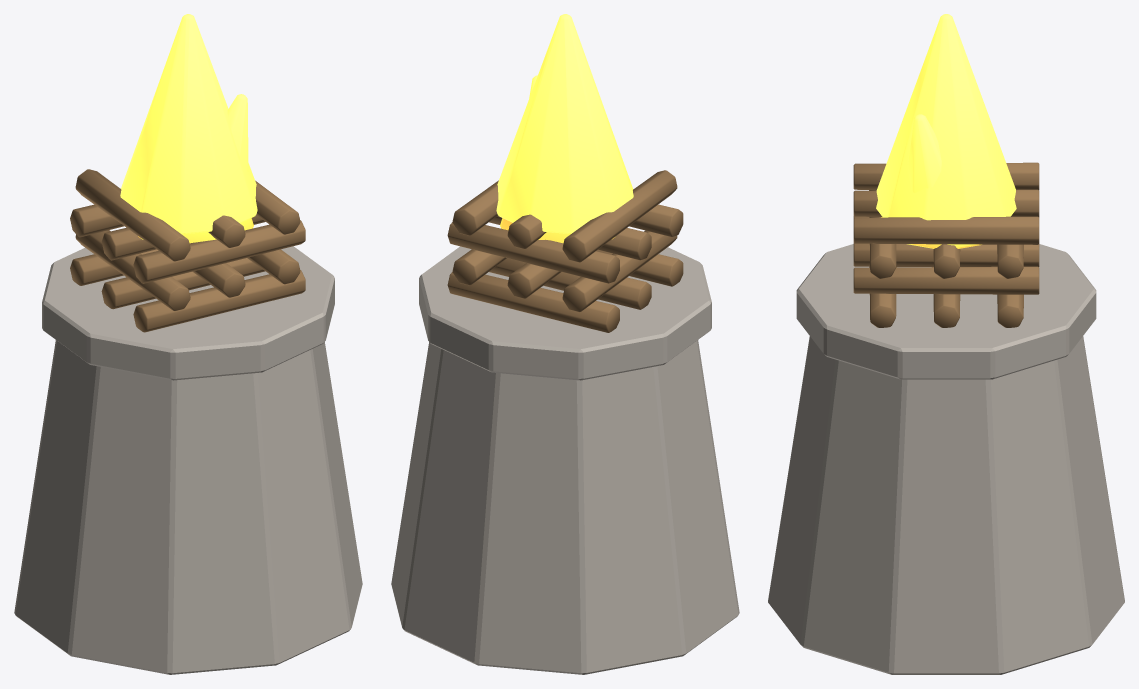
File: Signal_Fire_Beacon.glb
3 views of the same model, side by side, from view 1: azimuth 30°, elevation 25°; view 2: azimuth 150°, elevation 25°; view 3: azimuth 270°, elevation 25° (orthographic).
Parts seen in each view (by area): view 1: WatchBase, StoneCoping, BlazingFlame, PyreLog_2_-0.22, PyreLog_0_-0.22, PyreLog_3_-0.22, PyreLog_1_-0.22, PyreLog_0_0.00, PyreLog_3_0.22, PyreLog_2_0.00, PyreLog_0_0.22, PyreLog_2_0.22 (+4 smaller); view 2: WatchBase, StoneCoping, BlazingFlame, PyreLog_2_0.22, PyreLog_0_0.22, PyreLog_3_-0.22, PyreLog_1_-0.22, PyreLog_0_0.00, PyreLog_3_0.22, PyreLog_2_0.00, PyreLog_0_-0.22, PyreLog_1_0.22 (+3 smaller); view 3: WatchBase, StoneCoping, BlazingFlame, PyreLog_3_0.22, PyreLog_1_0.22, PyreLog_1_0.00, SideFlameA, PyreLog_3_-0.22, PyreLog_3_0.00, PyreLog_2_-0.22, PyreLog_0_-0.22, PyreLog_2_0.22 (+3 smaller).
Boxes of the visible parts, x1,y1,x2,y2 form: WatchBase: [14, 340, 362, 674]; StoneCoping: [42, 246, 334, 380]; BlazingFlame: [120, 14, 257, 234]; PyreLog_2_-0.22: [133, 220, 305, 283]; PyreLog_0_-0.22: [133, 270, 305, 332]; PyreLog_3_-0.22: [75, 169, 190, 261]; PyreLog_1_-0.22: [75, 230, 190, 310]; PyreLog_0_0.00: [101, 258, 264, 309]; PyreLog_3_0.22: [255, 180, 300, 234]; PyreLog_2_0.00: [101, 215, 265, 260]; PyreLog_0_0.22: [70, 249, 158, 285]; PyreLog_2_0.22: [70, 204, 124, 237]; WatchBase: [391, 340, 739, 674]; StoneCoping: [419, 246, 711, 380]; BlazingFlame: [496, 14, 633, 234]; PyreLog_2_0.22: [447, 222, 619, 283]; PyreLog_0_0.22: [447, 272, 619, 332]; PyreLog_3_-0.22: [562, 170, 677, 262]; PyreLog_1_-0.22: [562, 230, 677, 312]; PyreLog_0_0.00: [489, 258, 651, 309]; PyreLog_3_0.22: [452, 180, 498, 235]; PyreLog_2_0.00: [489, 215, 651, 260]; PyreLog_0_-0.22: [596, 250, 683, 286]; PyreLog_1_0.22: [452, 249, 506, 285]; WatchBase: [768, 336, 1124, 674]; StoneCoping: [796, 244, 1096, 379]; BlazingFlame: [876, 14, 1016, 220]; PyreLog_3_0.22: [853, 216, 1039, 244]; PyreLog_1_0.22: [853, 266, 1039, 294]; PyreLog_1_0.00: [853, 243, 1039, 266]; SideFlameA: [907, 114, 941, 193]; PyreLog_3_-0.22: [853, 162, 1039, 189]; PyreLog_3_0.00: [853, 189, 1039, 216]; PyreLog_2_-0.22: [869, 190, 896, 278]; PyreLog_0_-0.22: [869, 266, 896, 327]; PyreLog_2_0.22: [997, 244, 1023, 278].
Size of the model in its own units: 1.18 by 2.24 by 1.23.
